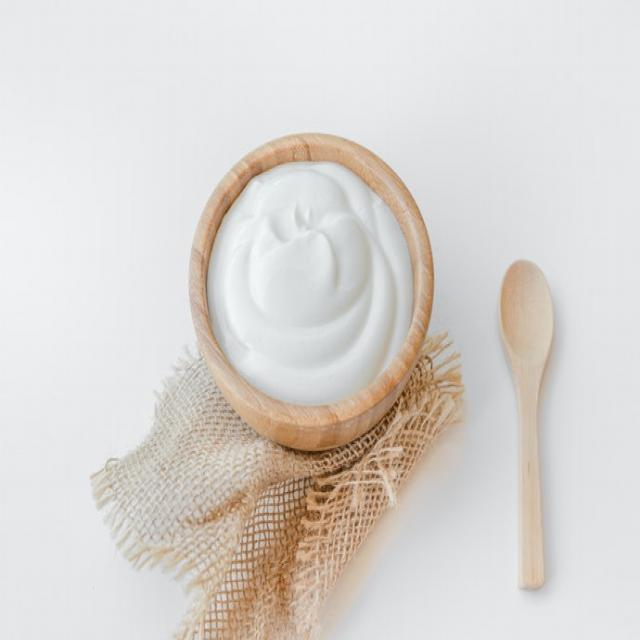Yogurt cup: (204, 151, 416, 403)
